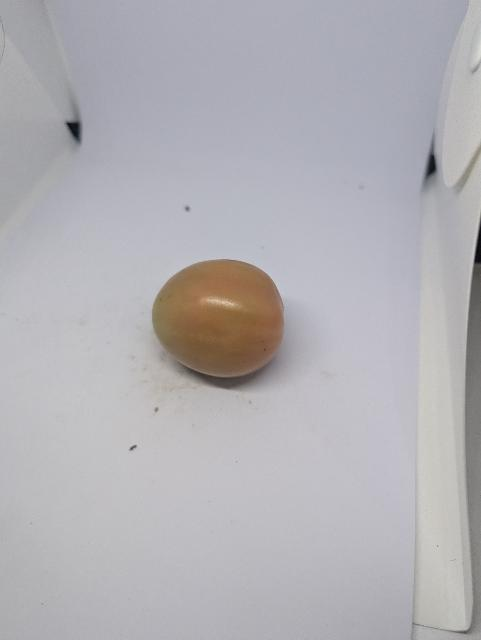turning: (152, 260, 284, 377)
